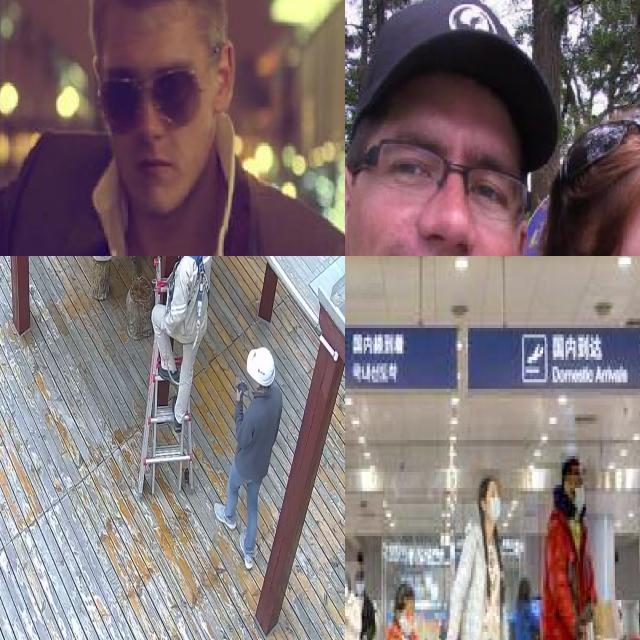Harness: (182, 256, 212, 310)
No_Ear-Protection: (209, 36, 240, 116)
face_mask: (570, 469, 586, 510), (486, 485, 502, 523), (398, 603, 413, 635), (354, 578, 364, 594), (345, 577, 348, 596)
face_nomask: (370, 140, 519, 256), (106, 57, 205, 184)
glasses: (370, 131, 530, 227), (98, 38, 227, 124), (562, 111, 640, 186)
head_nohelmet: (350, 0, 544, 131), (551, 105, 640, 219), (88, 0, 231, 35), (394, 578, 417, 610), (560, 453, 582, 478), (480, 469, 500, 491)
person: (0, 0, 345, 256), (538, 462, 597, 640), (455, 468, 511, 640), (376, 587, 443, 640), (345, 561, 362, 640)
